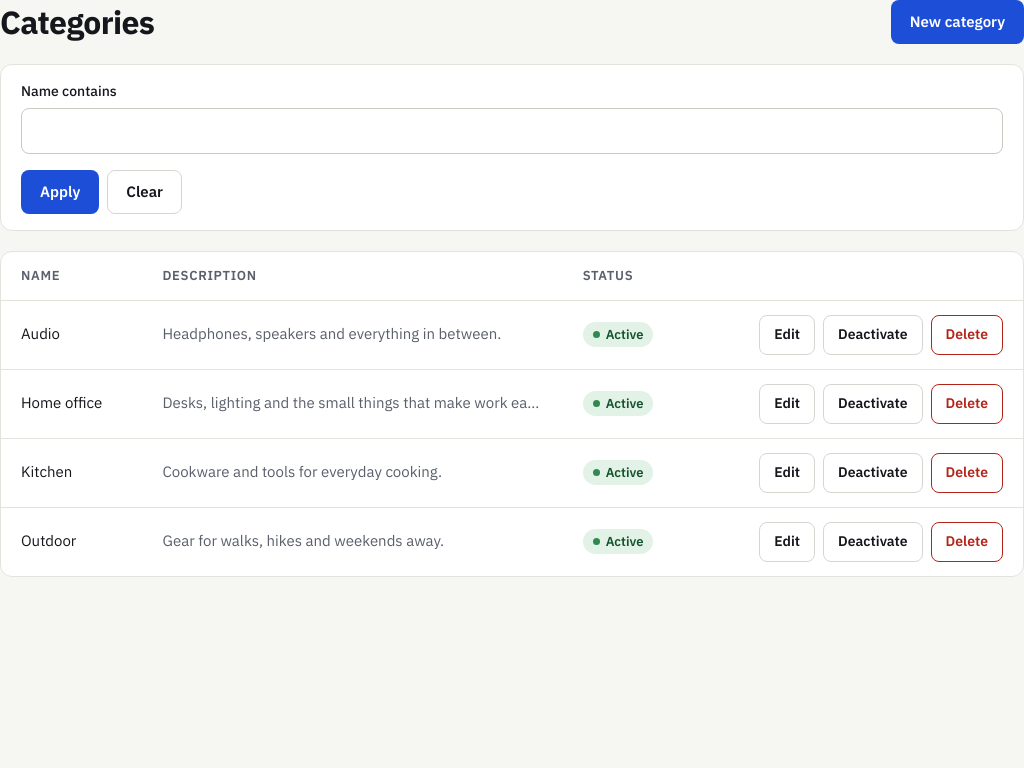
it: Admin categories › explains why a category that products use can’t be deleted
Click the button with aria-label "Delete Audio": (967, 334) top-left (931, 314), bottom-right (1003, 354)
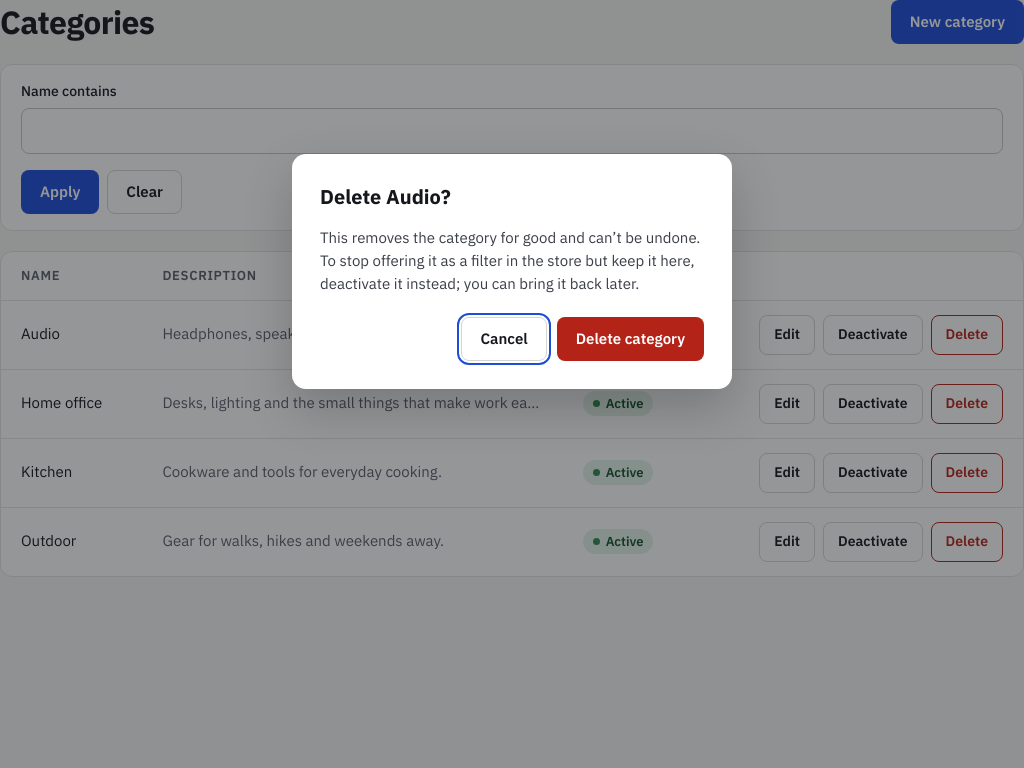
Click the button "Delete category": (630, 339) top-left (557, 317), bottom-right (704, 361)
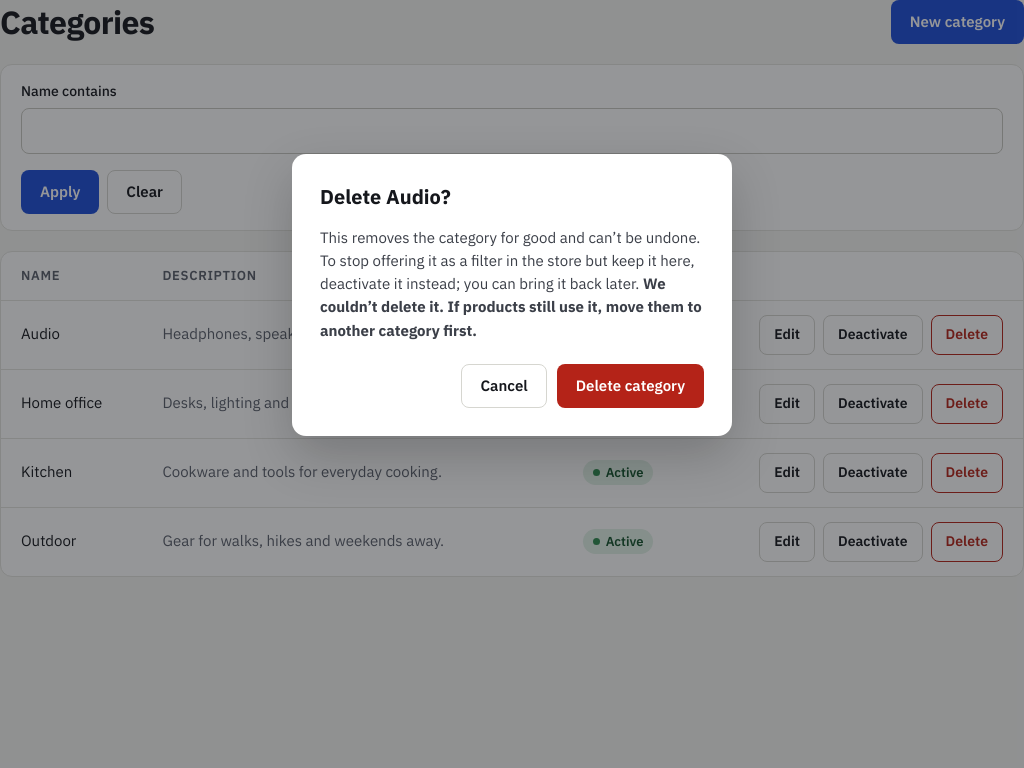
Expected: the text "move them to another" is shown, top-left (320, 274), bottom-right (702, 340)
